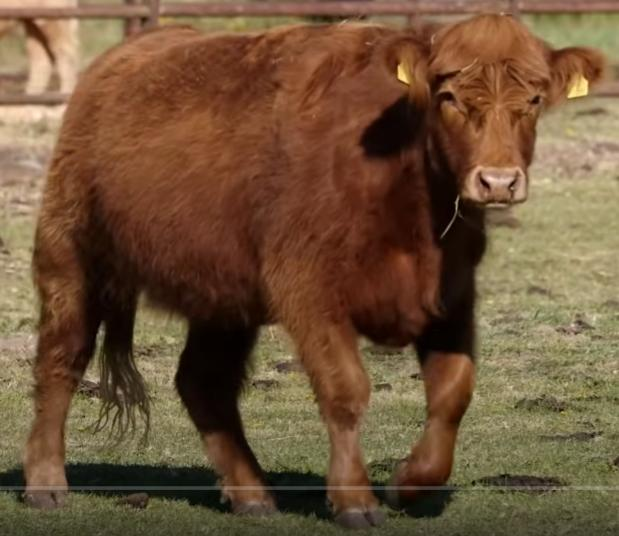cow: (23, 9, 604, 532)
